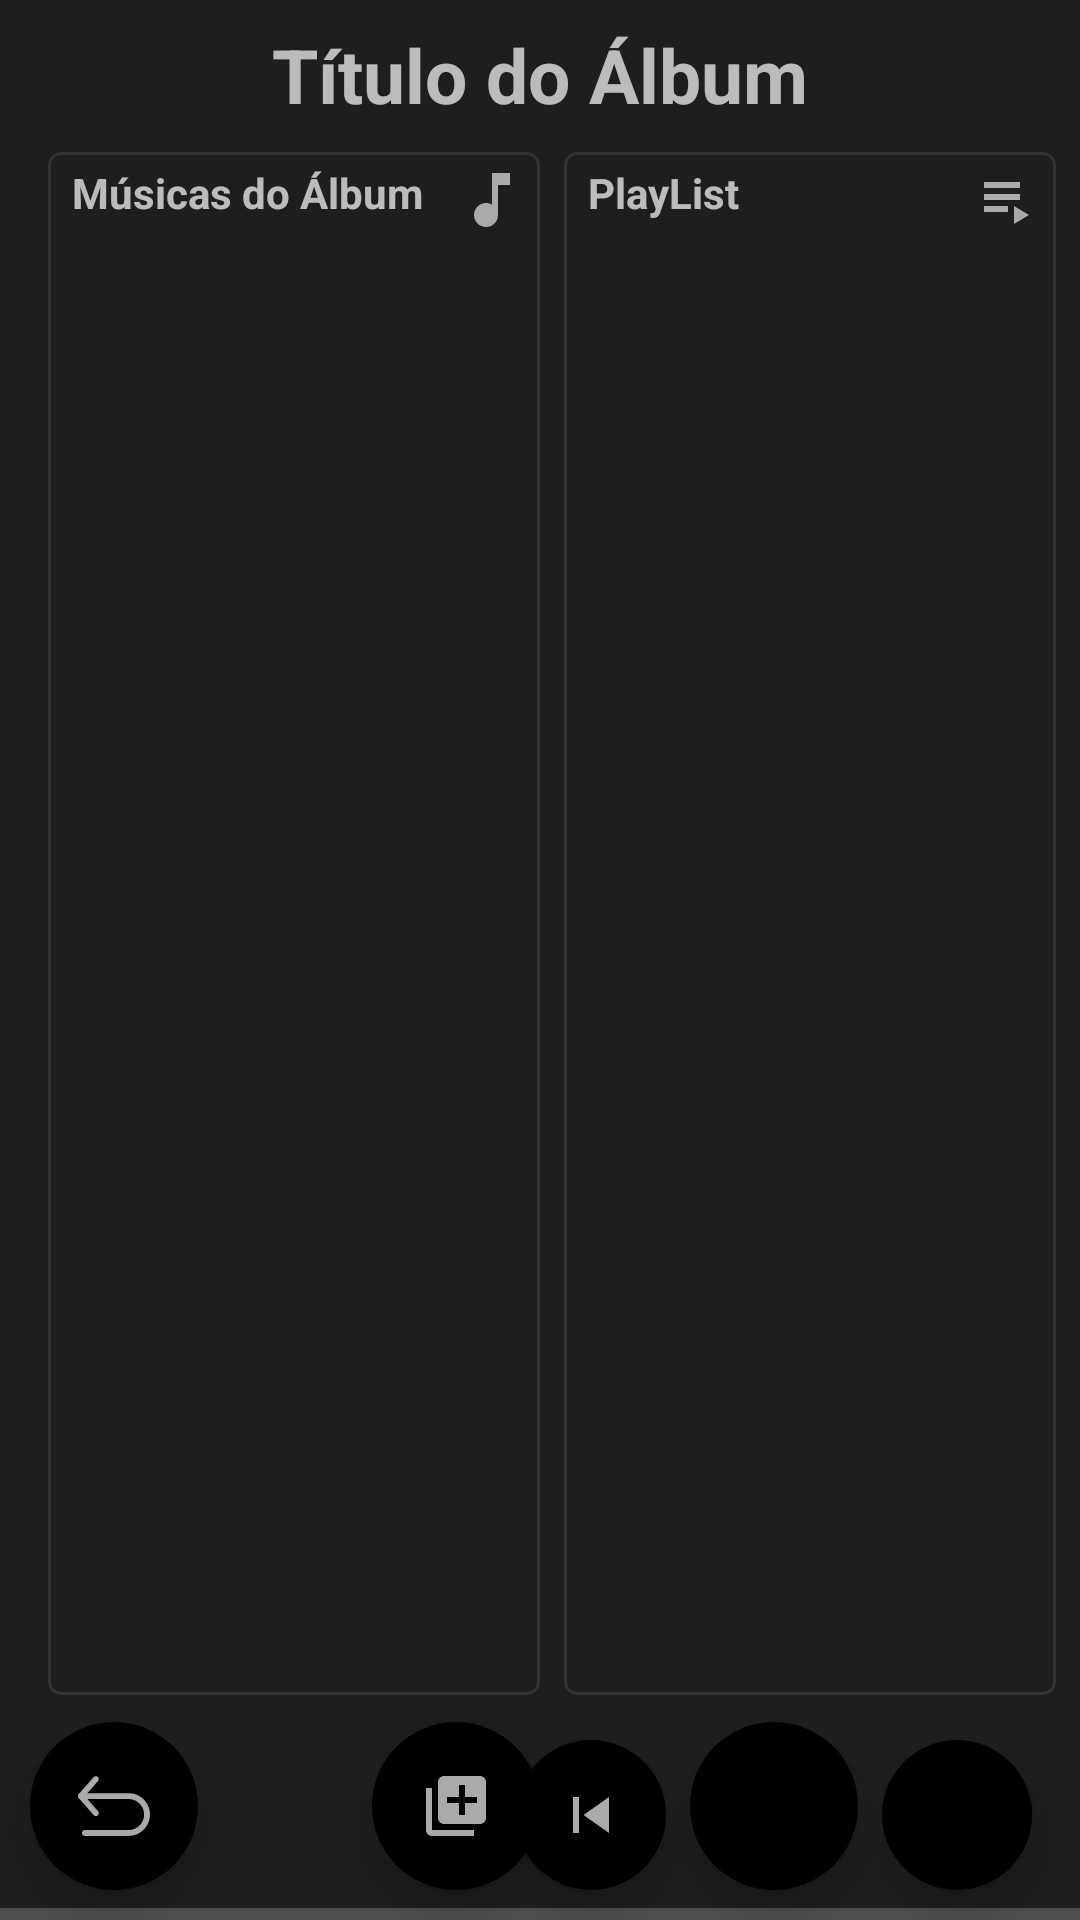

Screen size 1080 x 1920. Icon name, then its center in pixels as (x,y):
Adicionar Todas à PlayList de Músicas Selecionadas: (456,1806)
Nota Musical: (492,200)
playlist play: (1006,203)
Tocar Música Anterior: (591,1815)
Voltar: (114,1806)
